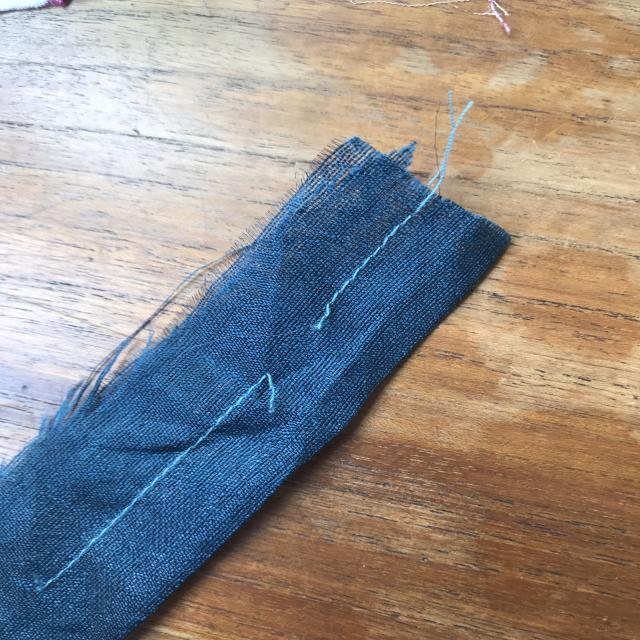broken: (258, 287, 342, 425)
